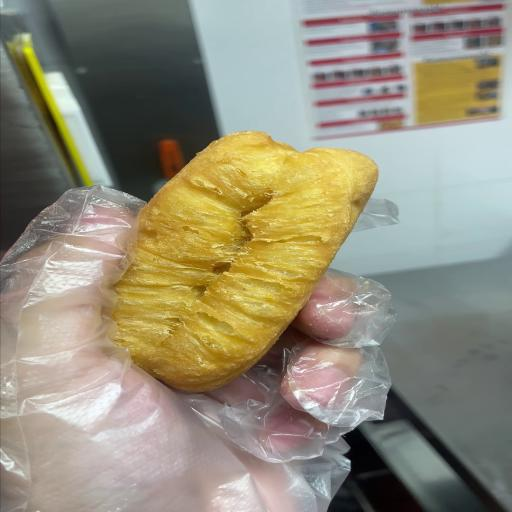brand_golden_good: (113, 131, 377, 391)
